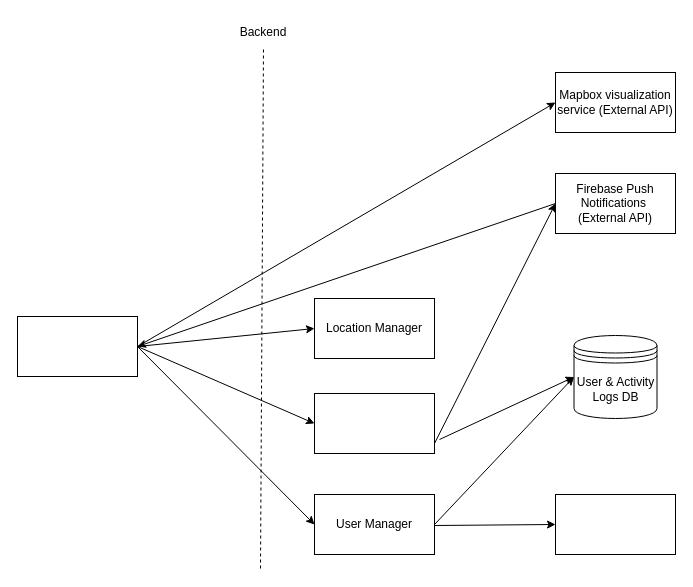
This 693x587 diagram has some shape labels left out. Here are the shapes that lost their labels. From the top down, the centre of each, then its label:
point (77, 346): Front end
point (374, 423): Notifications Manager
point (615, 524): Google Authentication (External API)
